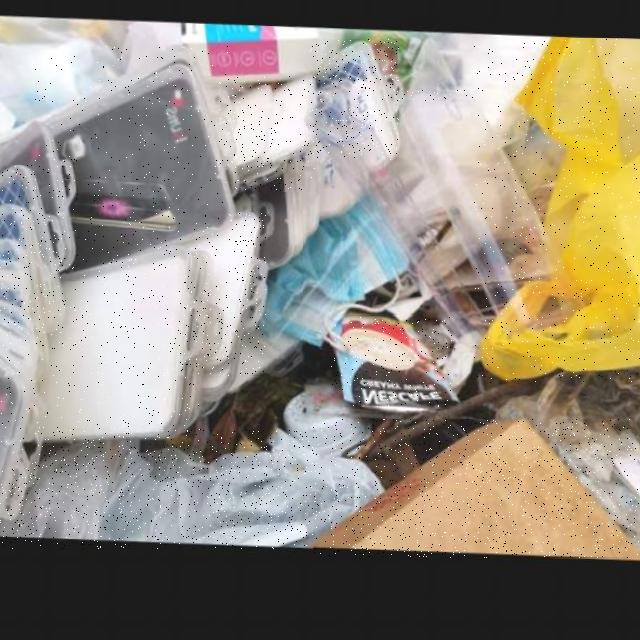paper: (314, 420, 640, 558)
plastic: (475, 38, 640, 383), (35, 46, 234, 281), (398, 91, 581, 337), (0, 430, 378, 549), (303, 101, 484, 348), (31, 246, 201, 443), (179, 213, 266, 376), (0, 166, 66, 338), (310, 40, 399, 160), (233, 77, 315, 192), (0, 328, 35, 467), (219, 86, 272, 168), (0, 364, 20, 522)
wrapper: (331, 315, 454, 407)
